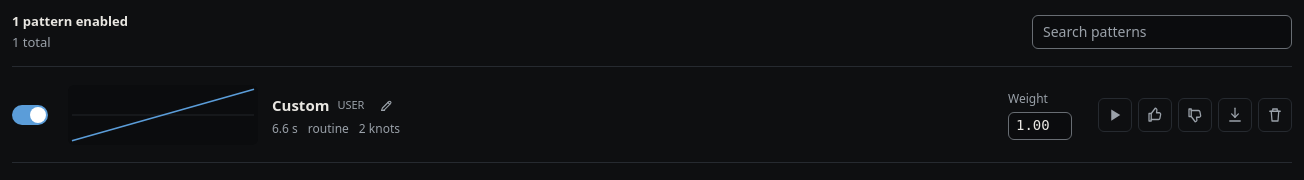
pattern library components › reverts a weight field when the authoritative patch fails
The width and height of the screenshot is (1304, 180).
Replace the text in the number field labelled "Weight" with "2" at (1040, 126), box [1008,112,1072,140]
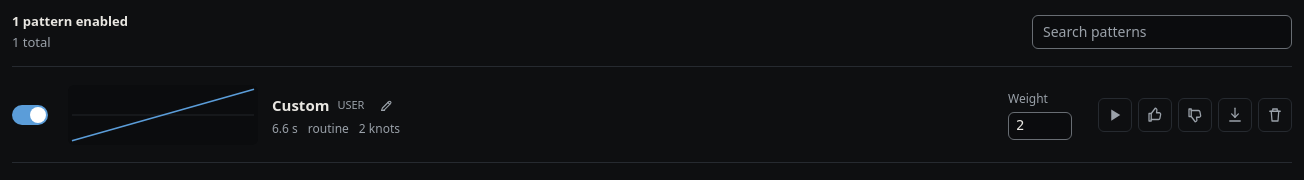
Leave the number field labelled "Weight", box [1008,112,1072,140]
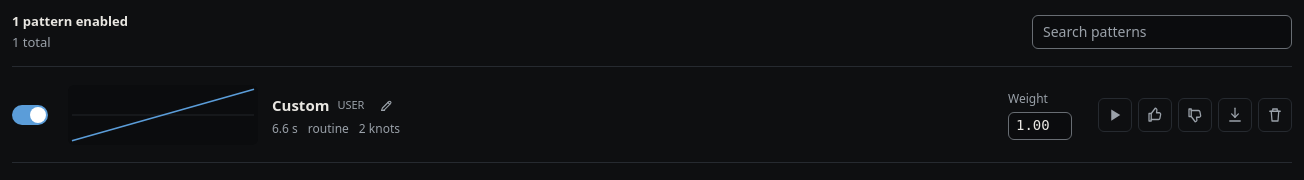
Now the number field labelled "Weight" holds "1", box [1008,112,1072,140]
